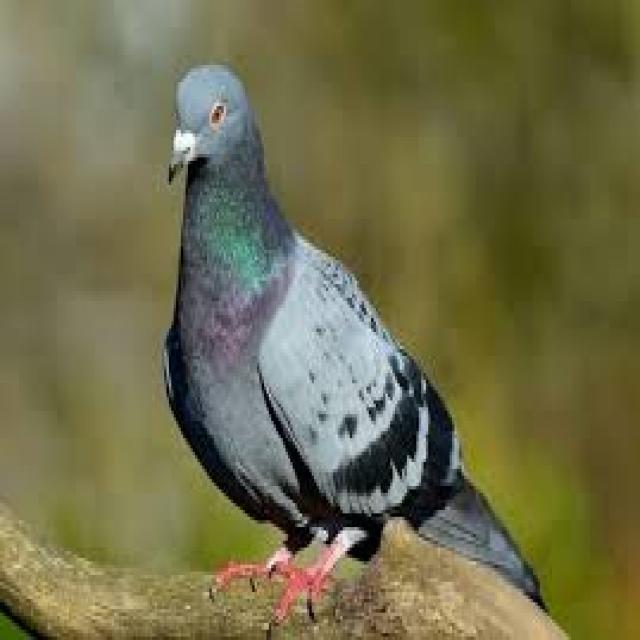bird: (133, 51, 609, 640)
